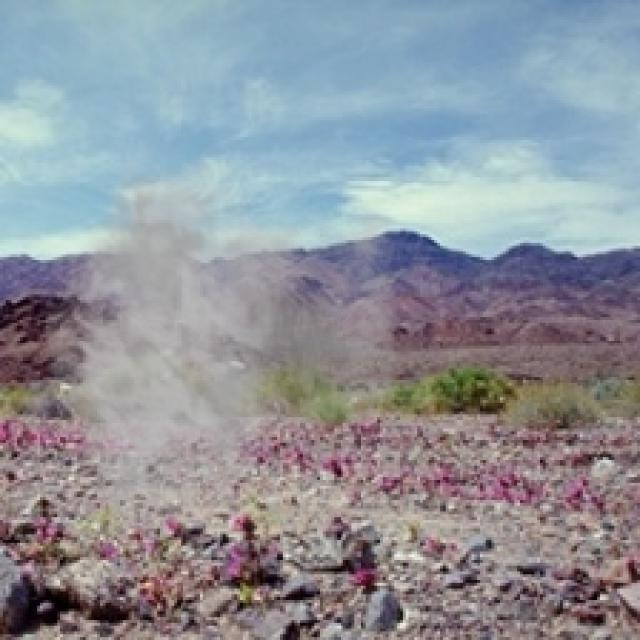smoke: (43, 137, 434, 534)
